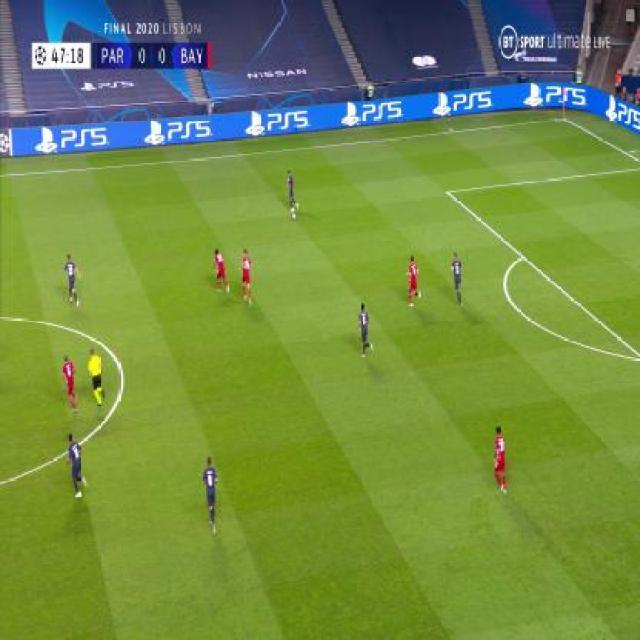ball: (291, 208, 296, 219)
player: (201, 455, 220, 537), (65, 434, 87, 497), (492, 425, 509, 496), (87, 348, 106, 408), (61, 355, 80, 412), (357, 302, 374, 359), (405, 254, 422, 308), (63, 253, 80, 307), (449, 252, 465, 309), (213, 247, 230, 293), (241, 249, 254, 306), (286, 168, 300, 217)
